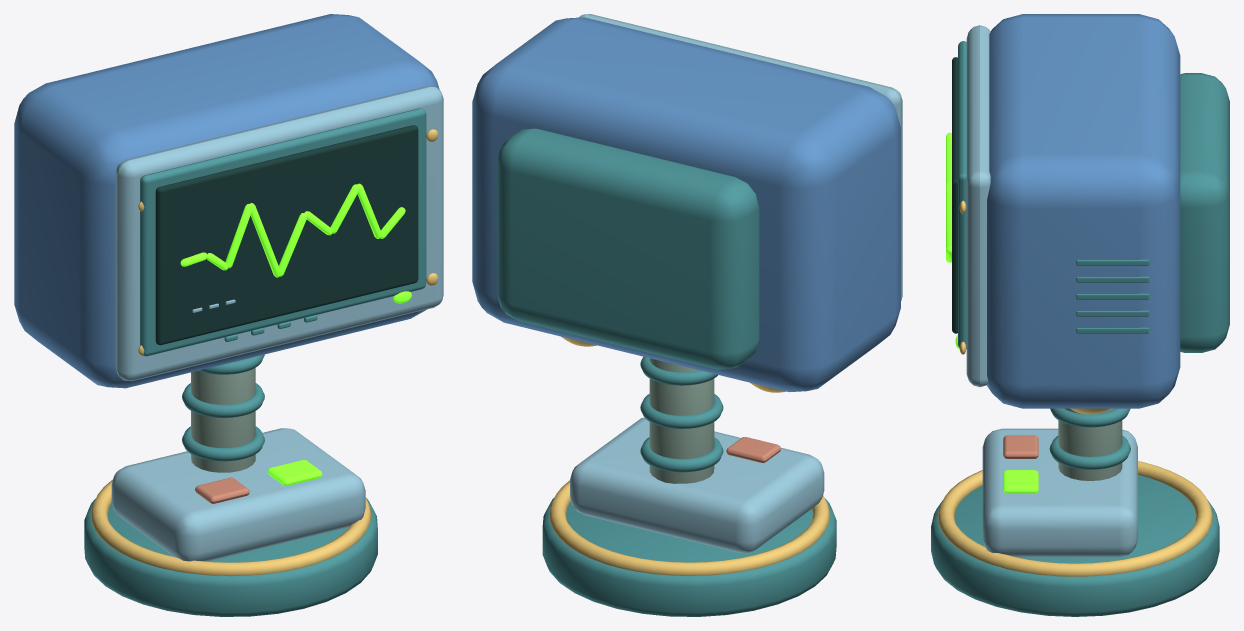
The model's file is grabber_computer.glb.
3 renders of one model, left to right at view 1: azimuth 30°, elevation 25°; view 2: azimuth 150°, elevation 25°; view 3: azimuth 270°, elevation 25°, orthographic. The views are drawn at different scales.
Parts seen in each view (by area): view 1: grabber_computer / material batches; view 2: grabber_computer / material batches; view 3: grabber_computer / material batches.
Part boxes in pixels (box(x1,y1,x2,y2)): grabber_computer / material batches: box(14, 14, 443, 616); grabber_computer / material batches: box(472, 14, 902, 616); grabber_computer / material batches: box(931, 14, 1229, 616).
Bounding box in the file's own units: 2.16 × 2.79 × 1.59.
